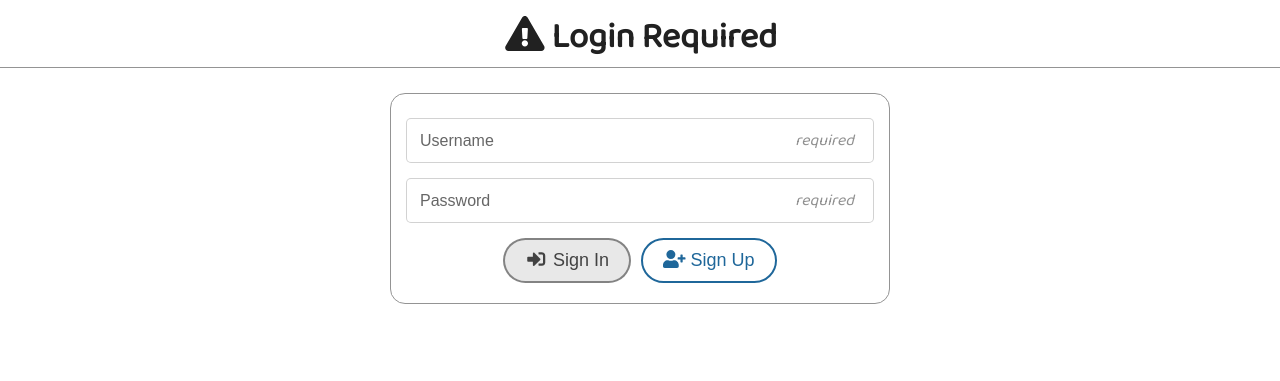
it: <LoginPage /> › should render the sign up form when the sign up button is clicked
Click the Sign Up button
Click the button with test id "loginForm.goToSignUpButton" at {"x": 709, "y": 260}, box x1=641 y1=238 x2=776 y2=283
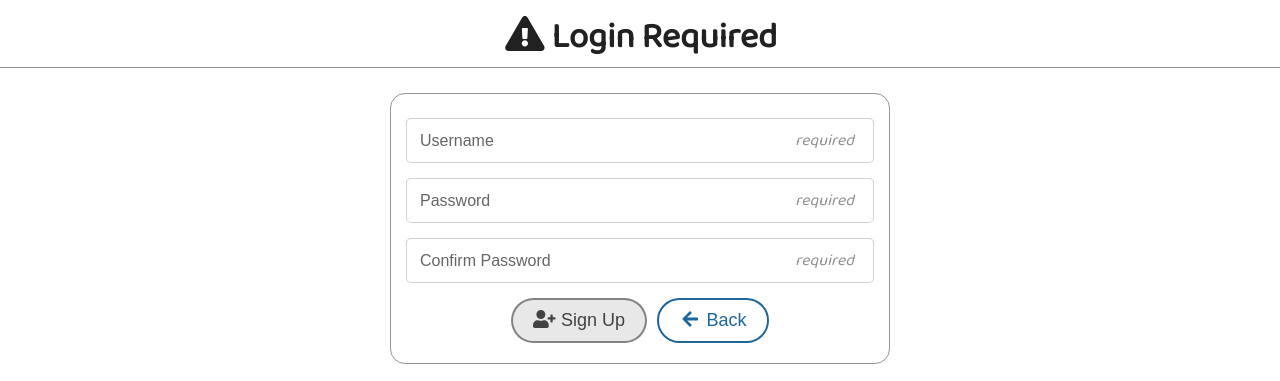
Result: the element with test id "signUpForm" is shown at x1=390 y1=93 x2=890 y2=364
